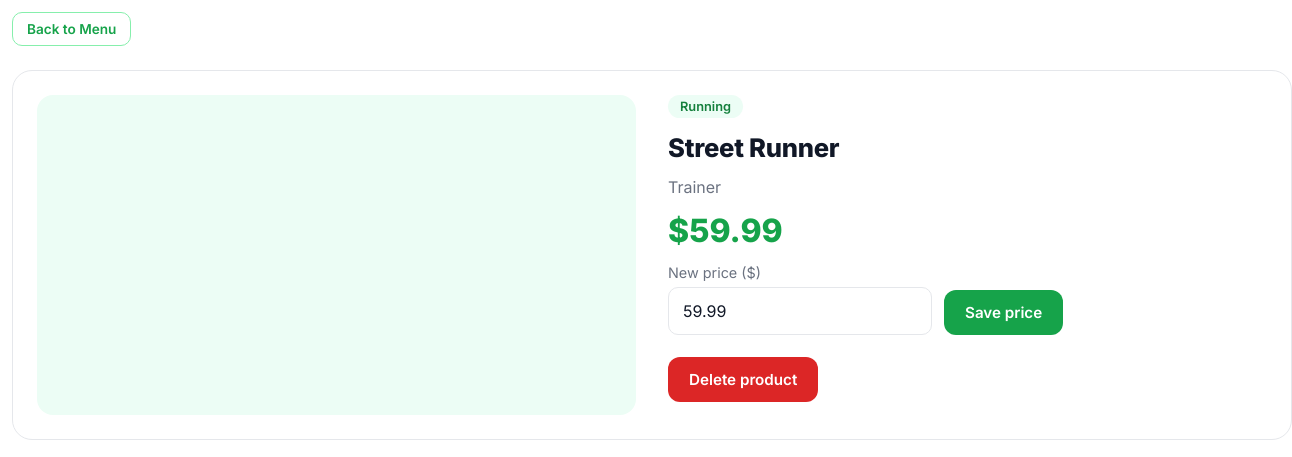
Scenario: delete asks for confirmation, sends DELETE and goes to /menu
Click the button "Delete product".
click(743, 380)  # box [668,357,818,402]
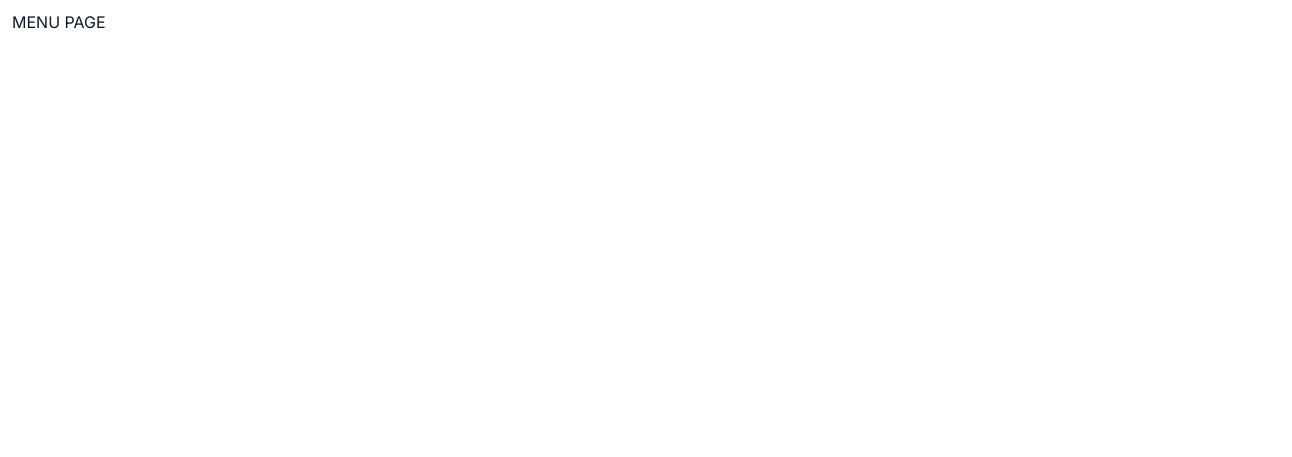
Expected: the text "MENU PAGE" is shown, [12,12,106,32]
